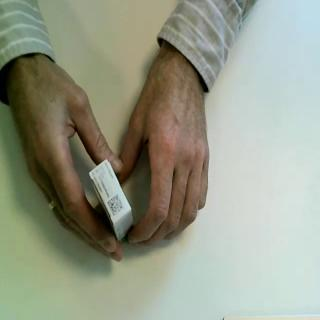nobligan_retard200mg: (88, 158, 136, 248)
